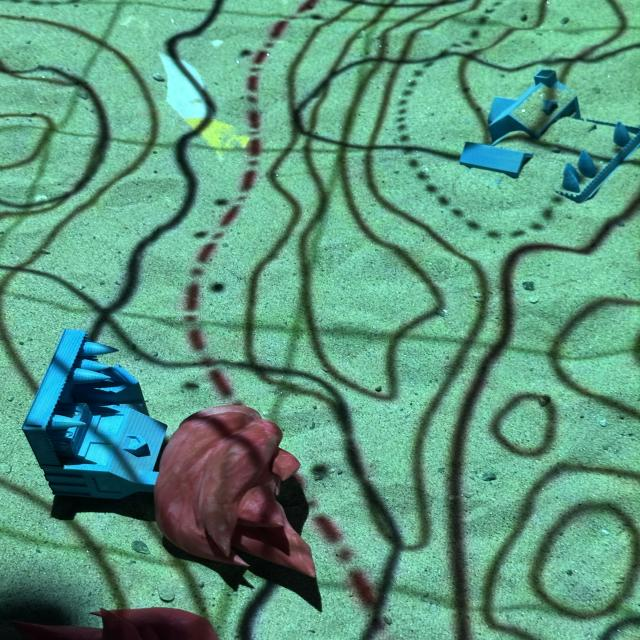fire: (158, 405, 320, 587)
house: (21, 328, 168, 501), (463, 70, 640, 200)
